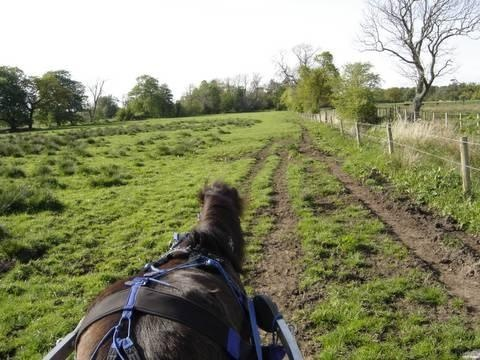horse: (75, 182, 260, 360)
